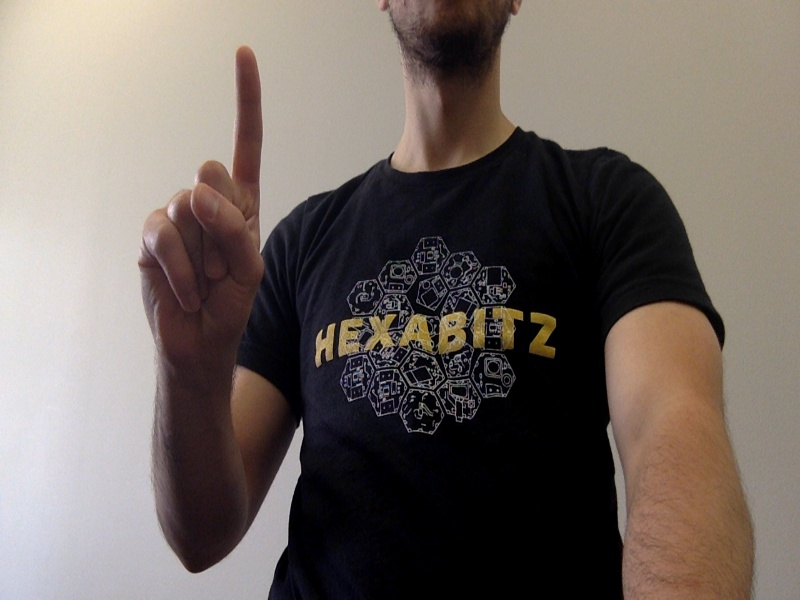1-hand: (139, 44, 265, 363)
